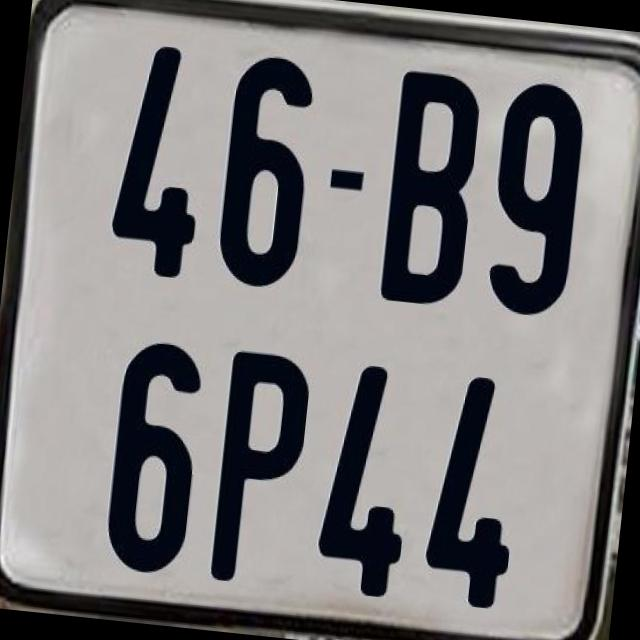4: (102, 41, 217, 286), (310, 358, 422, 603), (416, 373, 522, 615)
6: (214, 50, 320, 292), (100, 336, 206, 576)
9: (484, 78, 592, 320)
B: (380, 70, 482, 308)
P: (208, 349, 312, 592)
